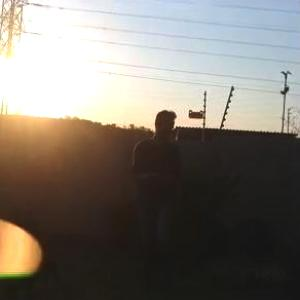follow: (127, 105, 190, 299)
